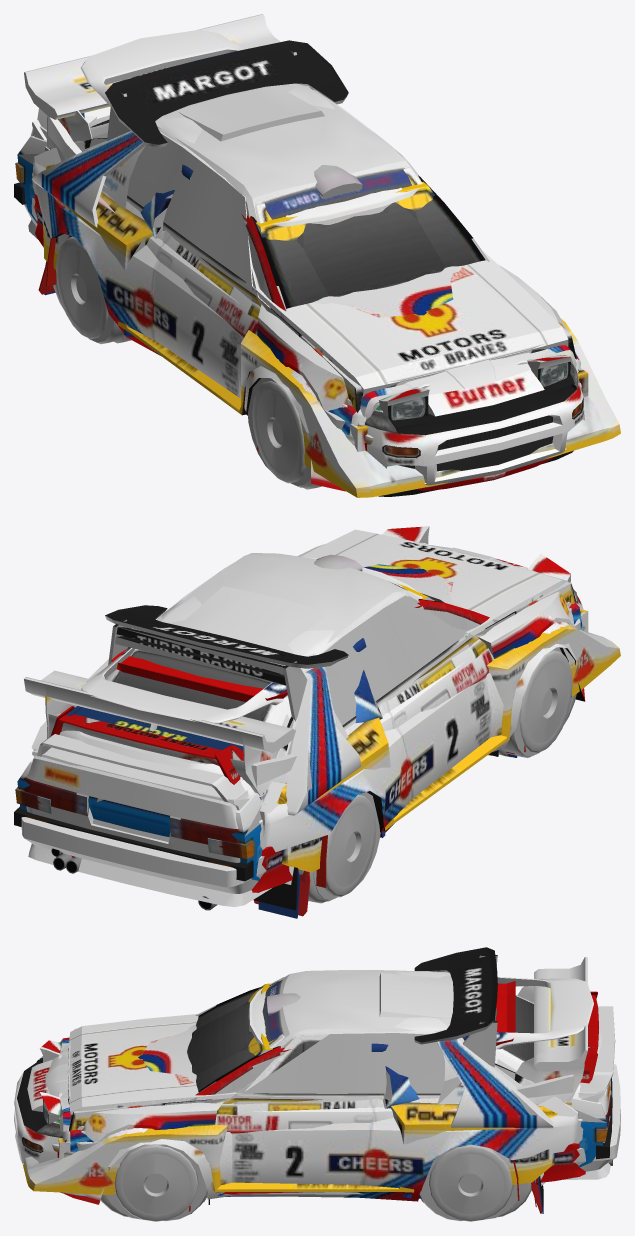
The model's file is cars.glb.
The picture shows the model from 3 angles, top to bottom: view 1: azimuth 30°, elevation 25°; view 2: azimuth 150°, elevation 25°; view 3: azimuth 270°, elevation 25°; orthographic projection. The views are drawn at different scales.
Parts seen in each view (by area): view 1: body (×12), wheel_FR, wheel_RR; view 2: body (×11), wheel_FR, wheel_RR; view 3: body (×13), wheel_FL (×2), wheel_RL (×2).
Part boxes in pixels (<box>): body (×12): <box>14,14,620,497</box>; wheel_FR: <box>252,381,306,483</box>; wheel_RR: <box>56,236,108,339</box>; body (×11): <box>14,526,620,918</box>; wheel_FR: <box>519,650,572,752</box>; wheel_RR: <box>325,795,376,897</box>; body (×13): <box>14,947,620,1213</box>; wheel_FL (×2): <box>114,1144,207,1221</box>; wheel_RL (×2): <box>419,1144,512,1221</box>.
Size of the model in its own units: 1.96 by 1.54 by 4.54.
21 materials, 18 textured.
